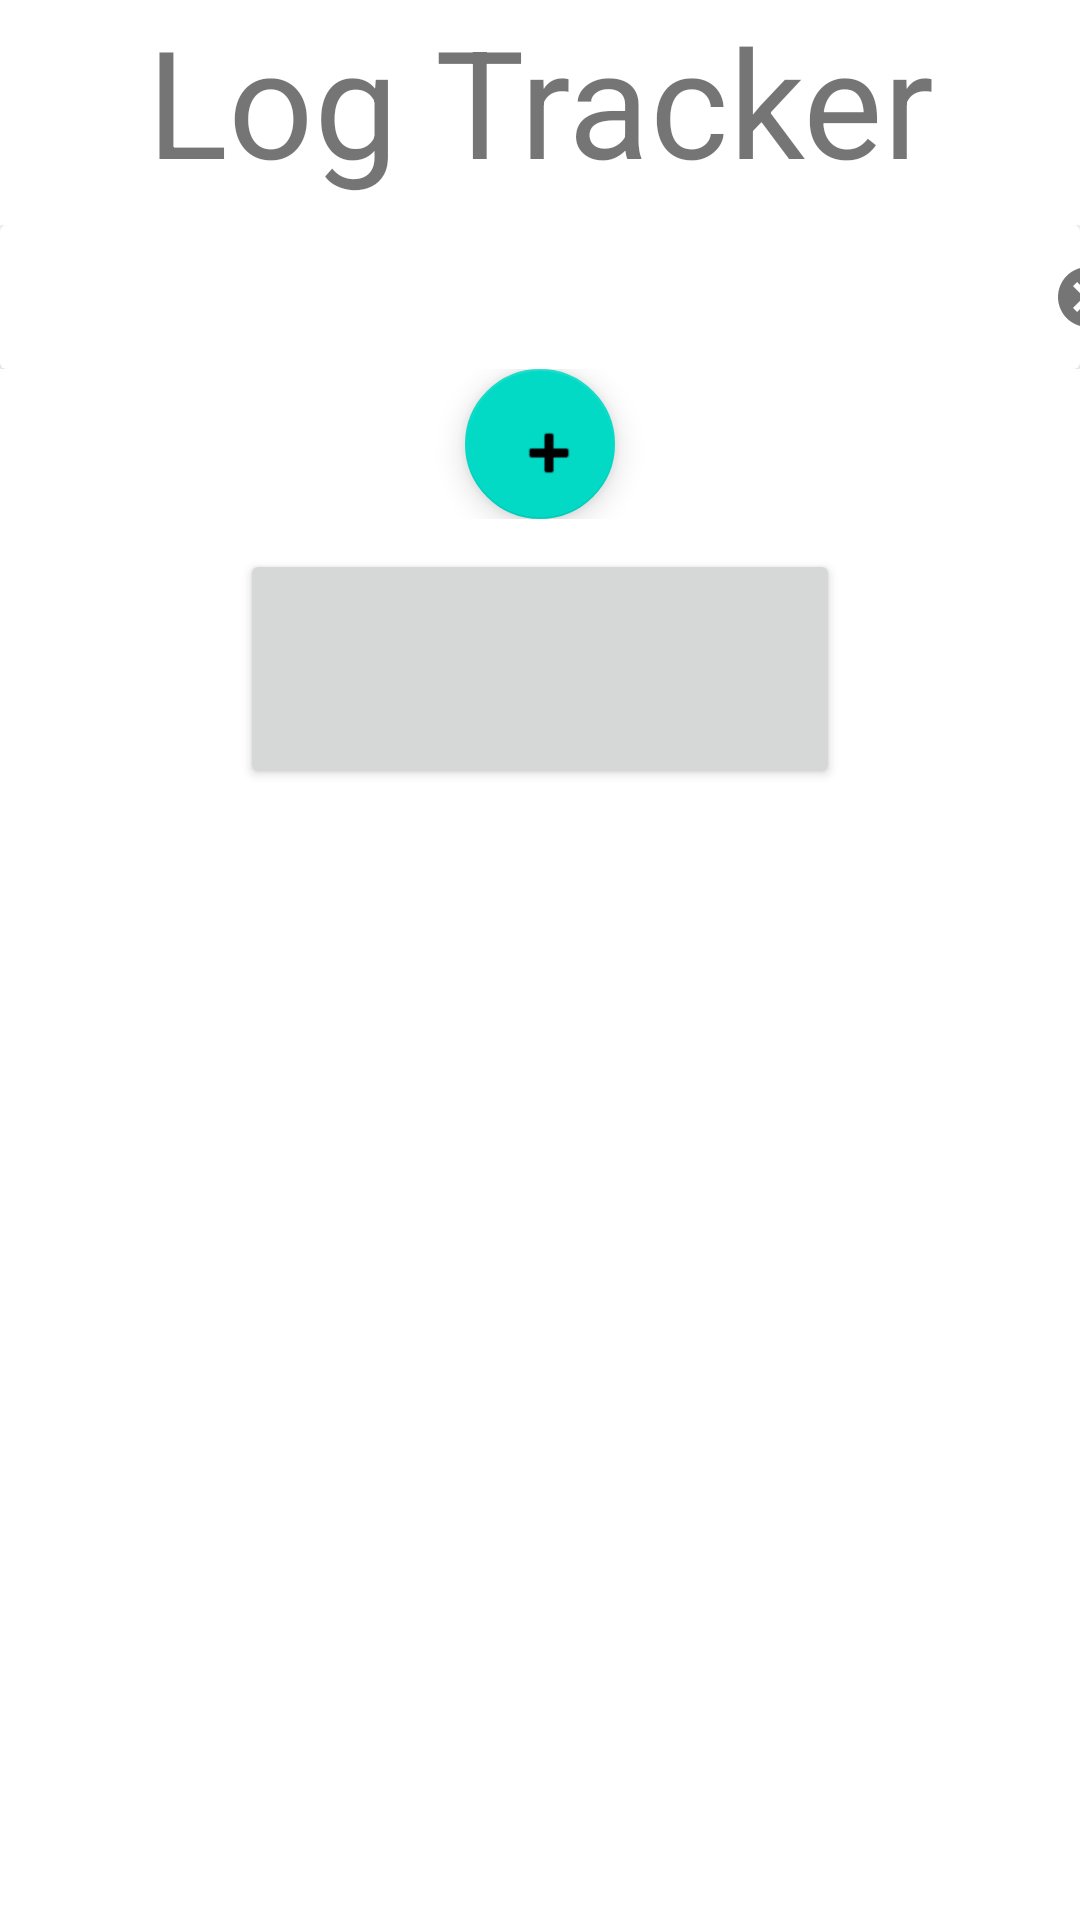

Screen size 1080px x 1920px. Icon name, then its center in pixels as (x=x, y=y):
add: (x=540, y=444)
